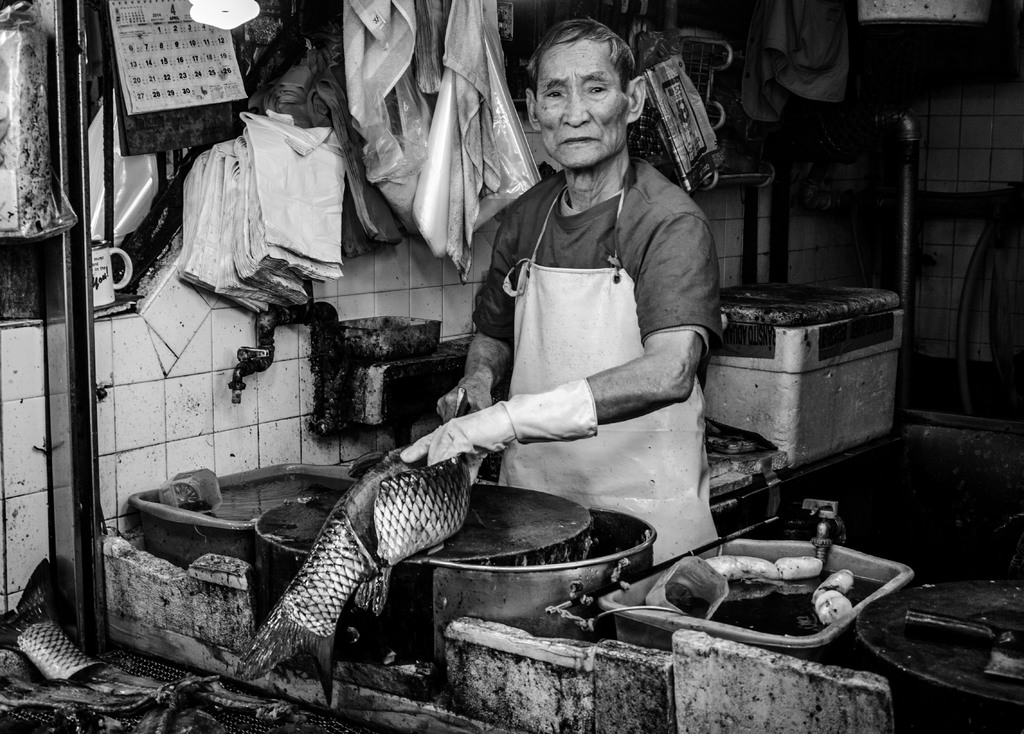Animal: (228, 438, 477, 705), (0, 555, 96, 682)
